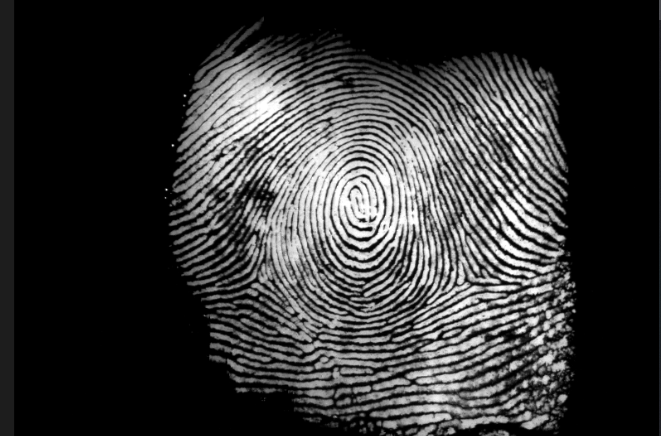deltas: (228, 245, 282, 305), (444, 249, 489, 300)
nucleo: (337, 173, 379, 230)
